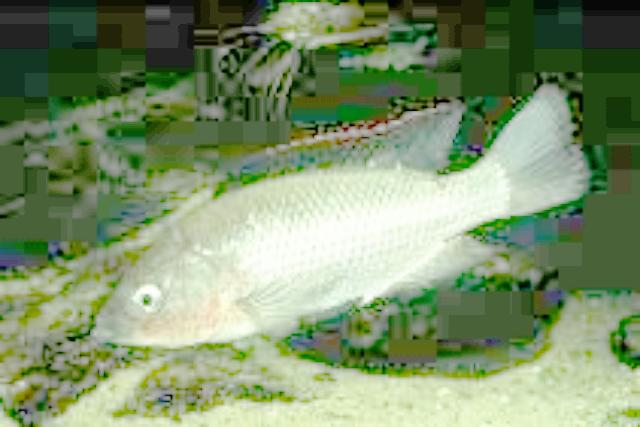Healthy Fish: (94, 88, 585, 349)
